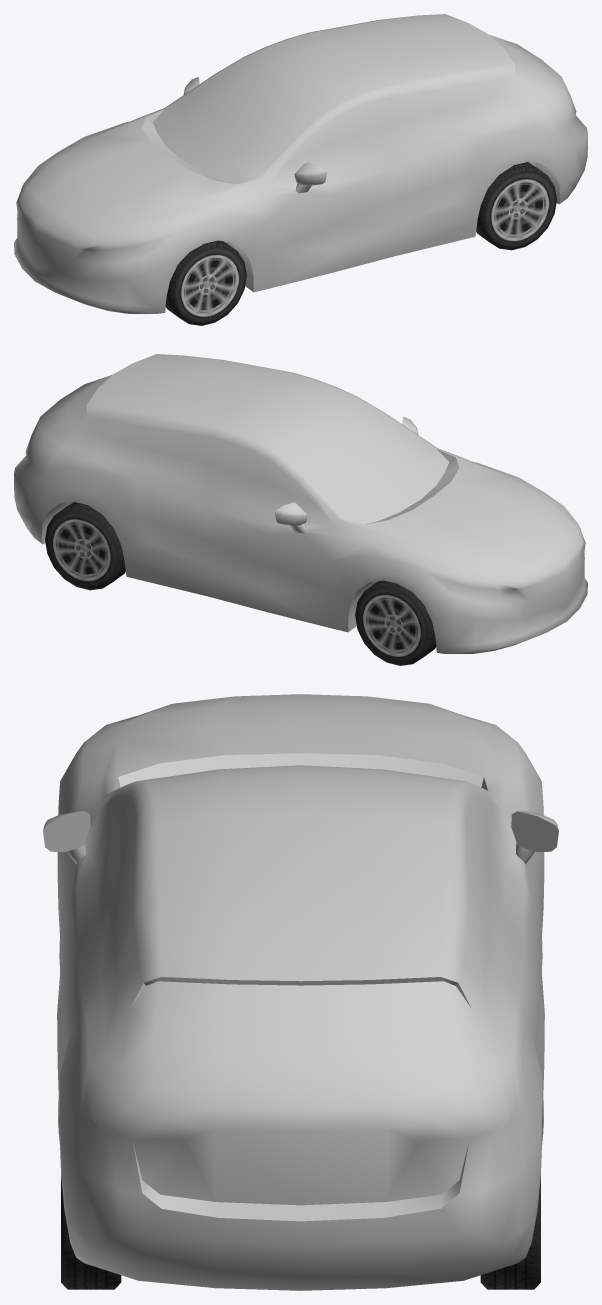
The model's file is CAR2.fbx.
3 views of the same model, one above another, from view 1: azimuth 30°, elevation 25°; view 2: azimuth 150°, elevation 25°; view 3: azimuth 270°, elevation 25° (orthographic). The views are drawn at different scales.
Visible parts, largest first — view 1: Car_5_car_5_0; view 2: Car_5_car_5_0; view 3: Car_5_car_5_0.
Boxes of the visible parts, left/top/right/bottom form: Car_5_car_5_0: left=14, top=14, right=587, bottom=325; Car_5_car_5_0: left=14, top=354, right=587, bottom=665; Car_5_car_5_0: left=43, top=694, right=558, bottom=1290.
Bounding box in the file's own units: 510 × 166 × 218.
